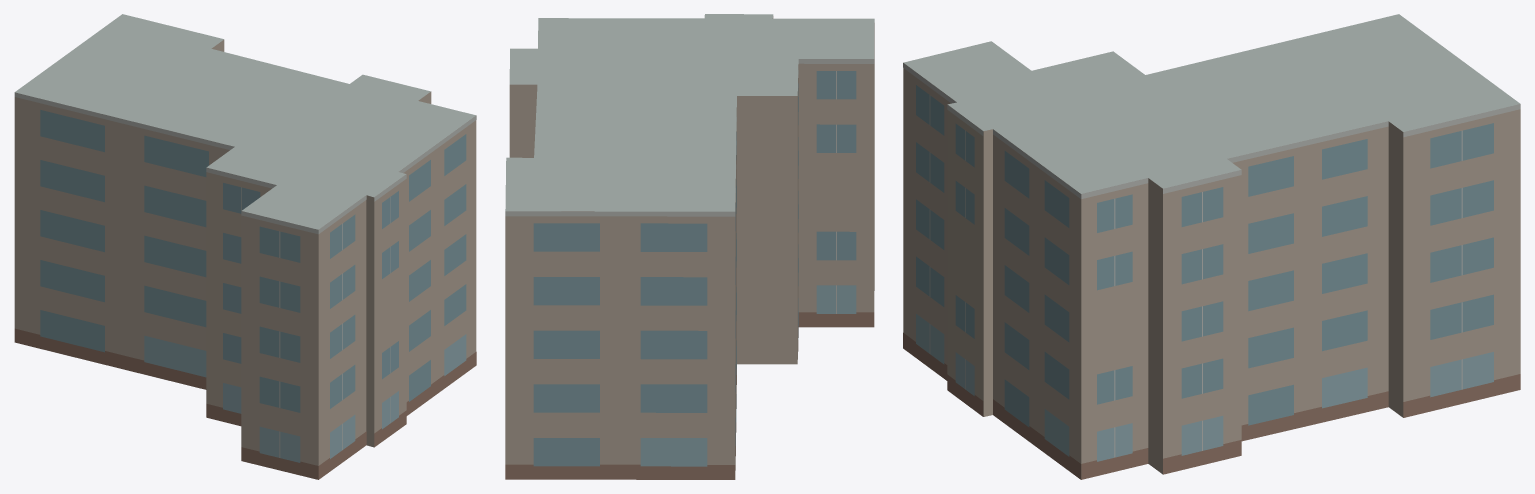
File: survey-upis-33001205.glb
The picture shows the model from 3 angles, left to right: view 1: azimuth 30°, elevation 25°; view 2: azimuth 150°, elevation 25°; view 3: azimuth 270°, elevation 25°; orthographic projection. The views are drawn at different scales.
Parts seen in each view (by area): view 1: survey-upis-33001205.tmp; view 2: survey-upis-33001205.tmp; view 3: survey-upis-33001205.tmp.
Boxes of the visible parts, box(x1,y1,x2,y2) form: survey-upis-33001205.tmp: box(14, 14, 476, 479); survey-upis-33001205.tmp: box(505, 14, 874, 479); survey-upis-33001205.tmp: box(903, 14, 1520, 479).
Bounding box in the file's own units: 18.04 × 13.35 × 26.14.
